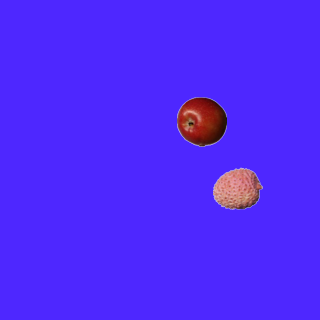Apple Braeburn: (176, 96, 226, 146)
Lychee: (212, 163, 262, 213)
